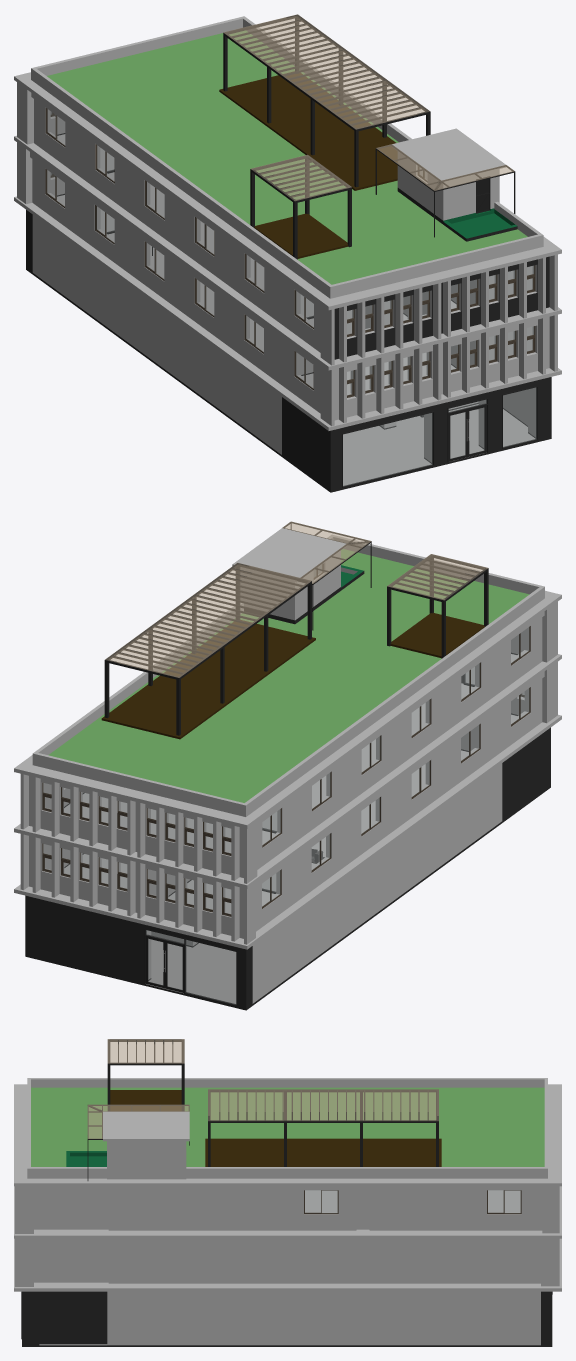
File: virnect.fbx
The picture shows the model from 3 angles, top to bottom: view 1: azimuth 30°, elevation 25°; view 2: azimuth 150°, elevation 25°; view 3: azimuth 270°, elevation 25°; orthographic projection. The views are drawn at different scales.
Parts seen in each view (by area): view 1: Virnect_Mod_19:Ceiling_3F, Virnect_Mod_19:F2_Wall_2F, Virnect_Mod_19:Wall_3F, Virnect_Mod_19:Wall_1F, Virnect_Mod_19:DeckRoof, Virnect_Mod_19:DeckWood, Virnect_Mod_19:Rooftop_Warehouse, Virnect_Mod_19:Floor_1F, Virnect_Mod_19:DeckFrame, Virnect_Mod_19:Ceiling_1F, Virnect_Mod_19:Ceiling_2F, Virnect_Mod_19:WindowFrameLGlass (+9 smaller); view 2: Virnect_Mod_19:Ceiling_3F, Virnect_Mod_19:Wall_1F, Virnect_Mod_19:F2_Wall_2F, Virnect_Mod_19:Wall_3F, Virnect_Mod_19:DeckRoof, Virnect_Mod_19:DeckWood, Virnect_Mod_19:Ceiling_2F, Virnect_Mod_19:Ceiling_1F, Virnect_Mod_19:DeckFrame, Virnect_Mod_19:Rooftop_Warehouse, Virnect_Mod_19:Floor_1F, Virnect_Mod_19:DoorFrame_Back_BigGlass (+8 smaller); view 3: Virnect_Mod_19:Ceiling_3F, Virnect_Mod_19:Wall_1F, Virnect_Mod_19:F2_Wall_2F, Virnect_Mod_19:Wall_3F, Virnect_Mod_19:DeckRoof, Virnect_Mod_19:Ceiling_2F, Virnect_Mod_19:DeckWood, Virnect_Mod_19:Rooftop_Warehouse, Virnect_Mod_19:Ceiling_1F, Virnect_Mod_19:DeckFrame, Virnect_Mod_19:SmokeArea_Roof, Virnect_Mod_19:SmokeArea_DeckWood (+4 smaller).
Boxes of the visible parts, bbox=[...] form: Virnect_Mod_19:Ceiling_3F: bbox=[14, 16, 561, 310]; Virnect_Mod_19:F2_Wall_2F: bbox=[17, 142, 557, 426]; Virnect_Mod_19:Wall_3F: bbox=[17, 82, 557, 365]; Virnect_Mod_19:Wall_1F: bbox=[26, 210, 551, 490]; Virnect_Mod_19:DeckRoof: bbox=[223, 14, 430, 129]; Virnect_Mod_19:DeckWood: bbox=[219, 71, 397, 190]; Virnect_Mod_19:Rooftop_Warehouse: bbox=[392, 128, 517, 241]; Virnect_Mod_19:Floor_1F: bbox=[26, 268, 551, 492]; Virnect_Mod_19:DeckFrame: bbox=[223, 14, 430, 187]; Virnect_Mod_19:Ceiling_1F: bbox=[14, 195, 561, 430]; Virnect_Mod_19:Ceiling_2F: bbox=[14, 134, 561, 370]; Virnect_Mod_19:WindowFrameLGlass: bbox=[343, 413, 432, 486]; Virnect_Mod_19:Ceiling_3F: bbox=[14, 535, 561, 828]; Virnect_Mod_19:Wall_1F: bbox=[25, 727, 550, 1008]; Virnect_Mod_19:F2_Wall_2F: bbox=[20, 662, 557, 944]; Virnect_Mod_19:Wall_3F: bbox=[20, 601, 557, 883]; Virnect_Mod_19:DeckRoof: bbox=[105, 562, 311, 677]; Virnect_Mod_19:DeckWood: bbox=[101, 620, 315, 739]; Virnect_Mod_19:Ceiling_2F: bbox=[14, 654, 561, 888]; Virnect_Mod_19:Ceiling_1F: bbox=[14, 714, 561, 949]; Virnect_Mod_19:DeckFrame: bbox=[104, 563, 311, 735]; Virnect_Mod_19:Rooftop_Warehouse: bbox=[232, 528, 364, 624]; Virnect_Mod_19:Floor_1F: bbox=[25, 786, 550, 1010]; Virnect_Mod_19:DoorFrame_Back_BigGlass: bbox=[186, 940, 235, 1004]; Virnect_Mod_19:Ceiling_3F: bbox=[14, 1078, 561, 1186]; Virnect_Mod_19:Wall_1F: bbox=[22, 1291, 552, 1345]; Virnect_Mod_19:F2_Wall_2F: bbox=[15, 1238, 559, 1286]; Virnect_Mod_19:Wall_3F: bbox=[15, 1186, 559, 1233]; Virnect_Mod_19:DeckRoof: bbox=[208, 1089, 438, 1120]; Virnect_Mod_19:Ceiling_2F: bbox=[14, 1186, 561, 1238]; Virnect_Mod_19:DeckWood: bbox=[205, 1138, 441, 1166]; Virnect_Mod_19:Rooftop_Warehouse: bbox=[66, 1111, 189, 1179]; Virnect_Mod_19:Ceiling_1F: bbox=[14, 1238, 561, 1291]; Virnect_Mod_19:DeckFrame: bbox=[208, 1089, 438, 1166]; Virnect_Mod_19:SmokeArea_Roof: bbox=[107, 1039, 184, 1063]; Virnect_Mod_19:SmokeArea_DeckWood: bbox=[110, 1090, 181, 1110].
Bounding box in the file's own units: 1217 × 1261 × 2846.
